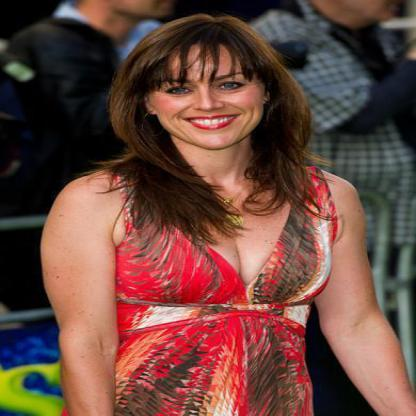long-hair: (107, 150, 323, 180)
